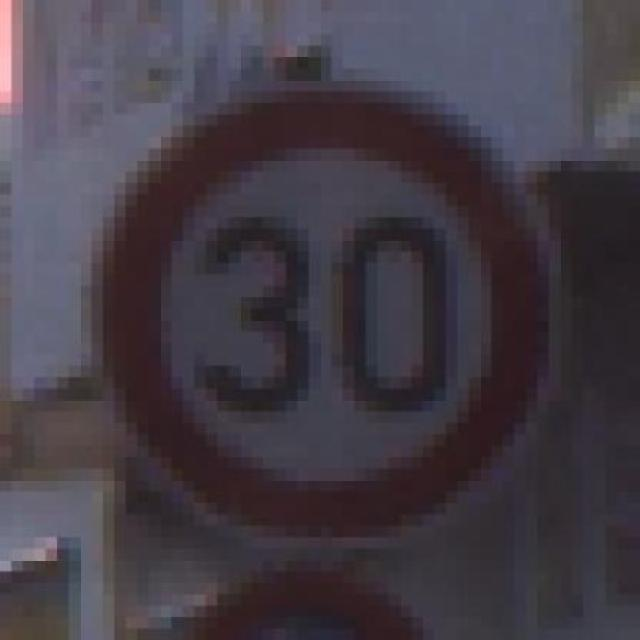Speed Limit 30 KMPh: (69, 68, 560, 526)
